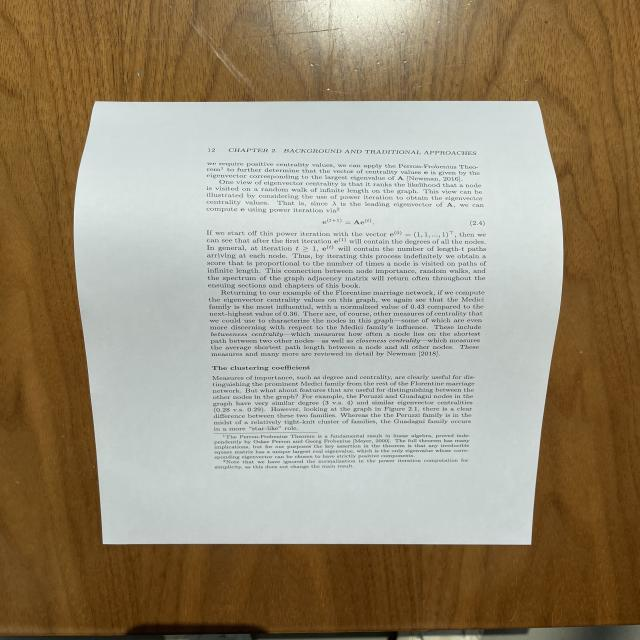document: (75, 101, 562, 544)
